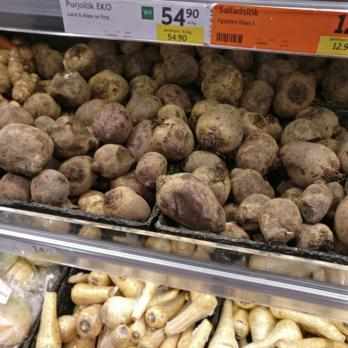beetroot: (169, 52, 344, 230), (0, 42, 84, 203), (90, 46, 166, 221)
